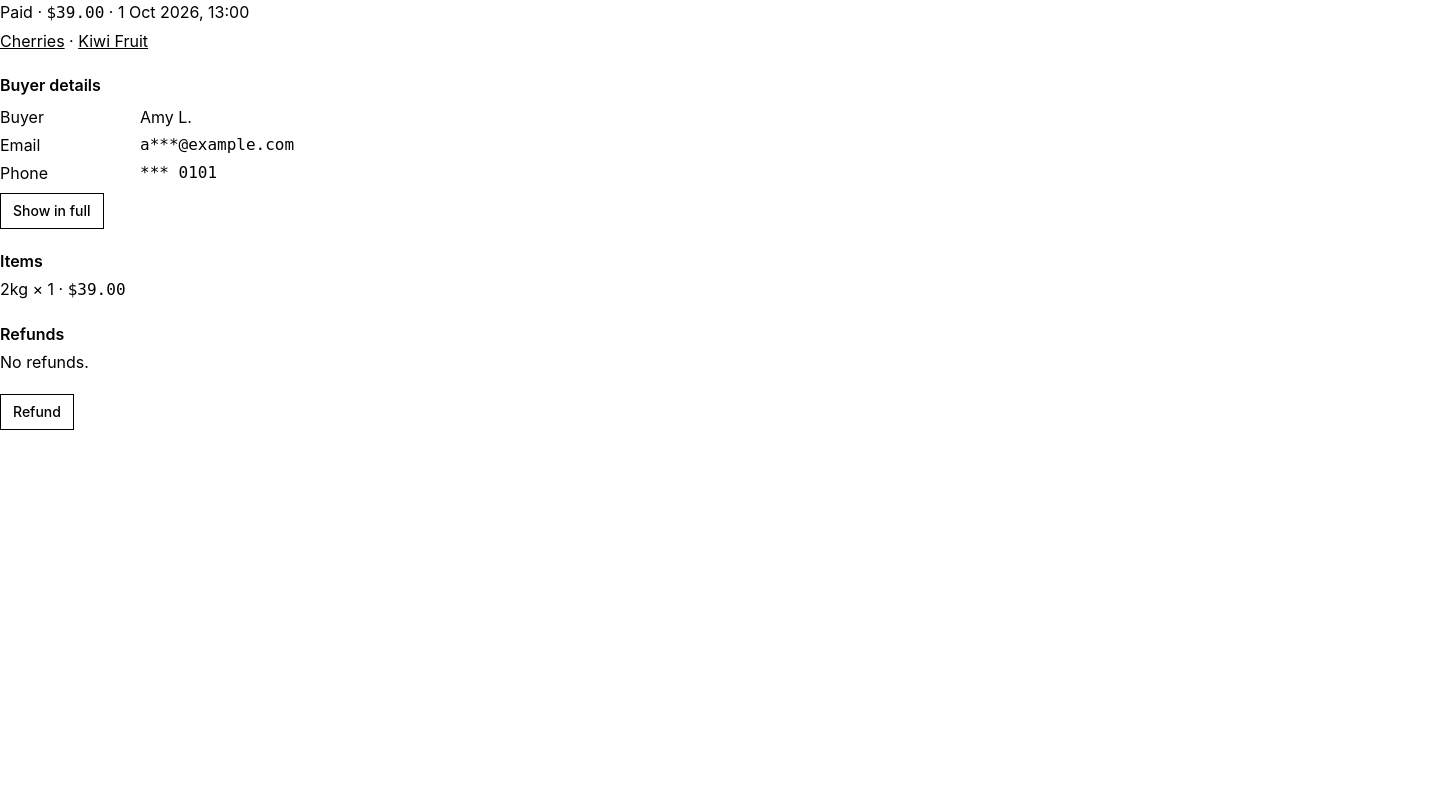
it: MaskedPii (in the order drawer) › stays masked, with the error, when the reveal is refused
Click the button "Show in full" at (52, 211), box 0,193 -> 104,229
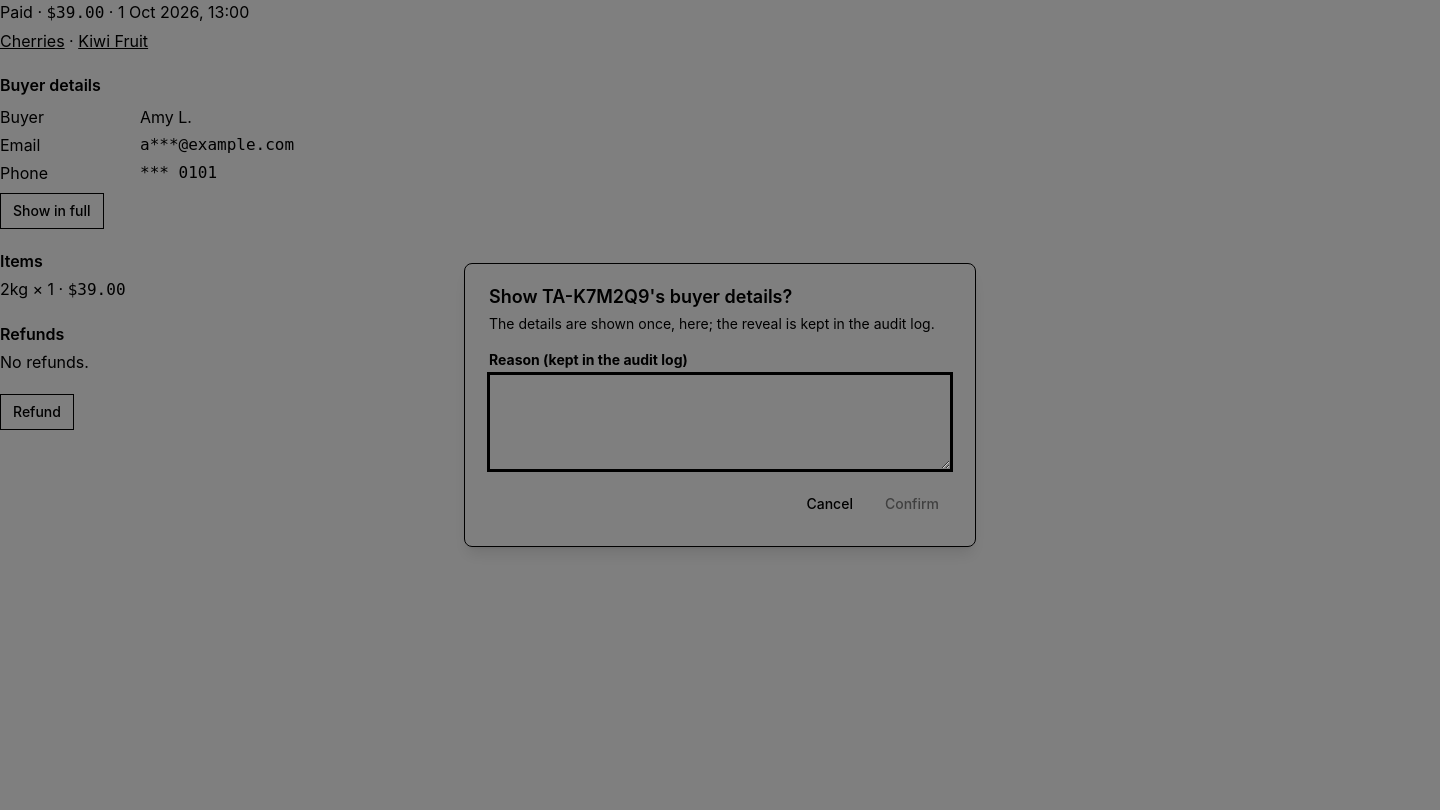
Type "Complaint" into the text box labelled "Reason (kept in the audit log)" at (720, 422), box 489,374 -> 951,470
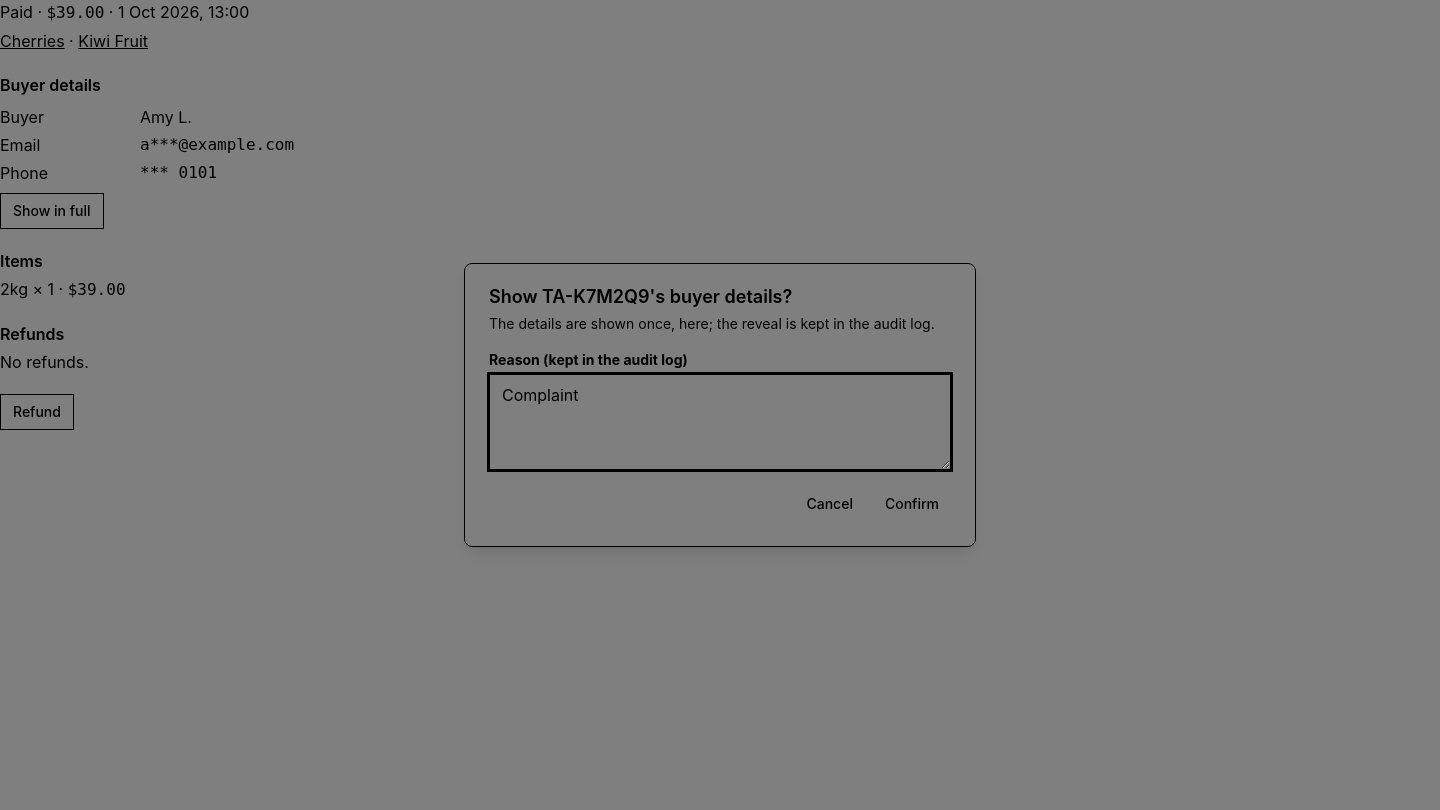
Click the button "Confirm" at (912, 504), box 873,486 -> 951,522
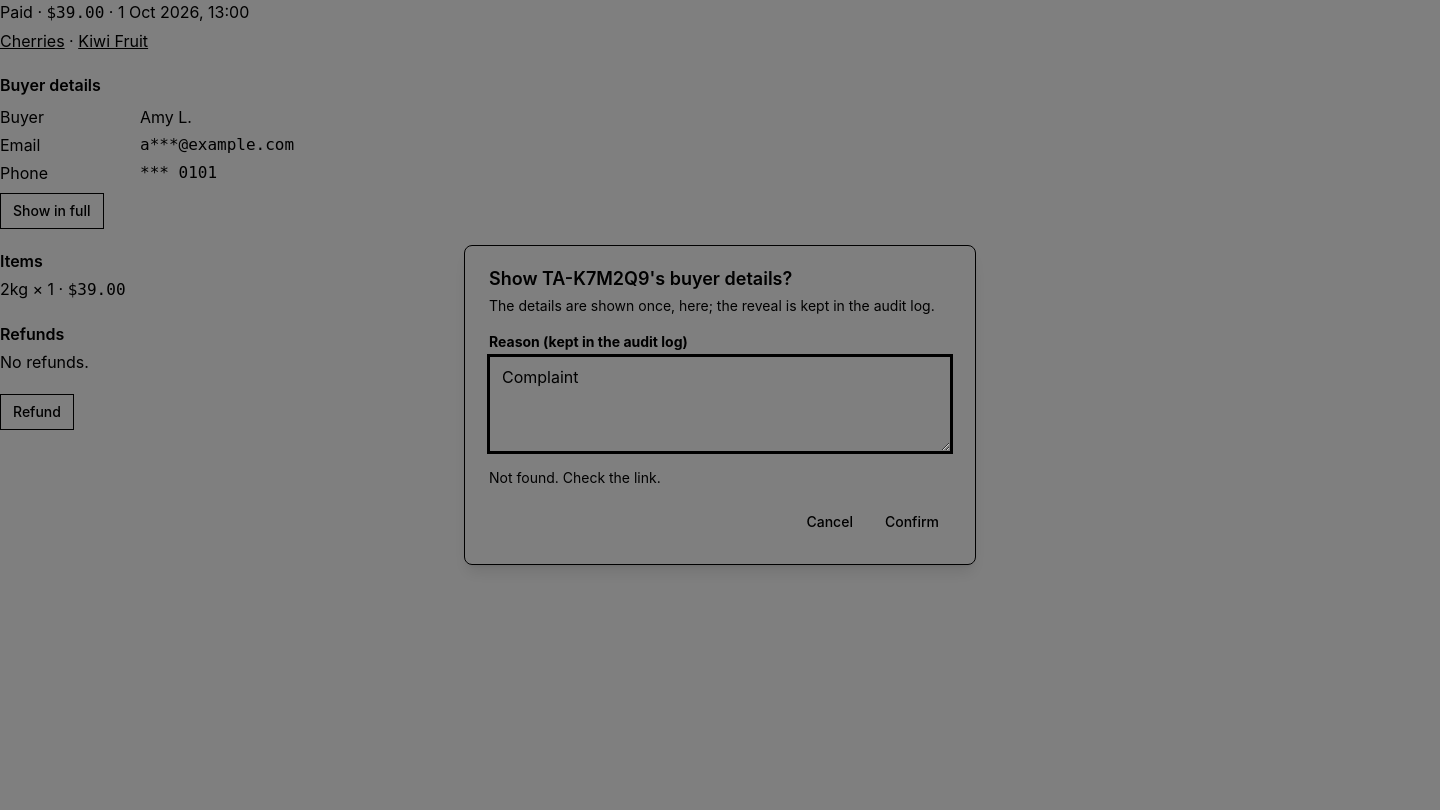
Check: the text "a***@example.com" is shown, box 140,135 -> 294,154
Check: the message reads "Not found. Check the link.", box 489,469 -> 661,486
